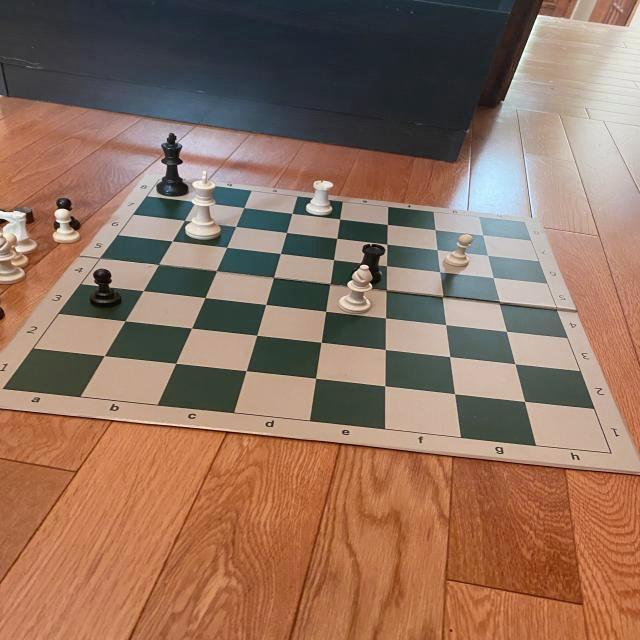chess-table-corners: (594, 446, 620, 461), (152, 175, 168, 185), (0, 381, 11, 393), (518, 220, 530, 227)
